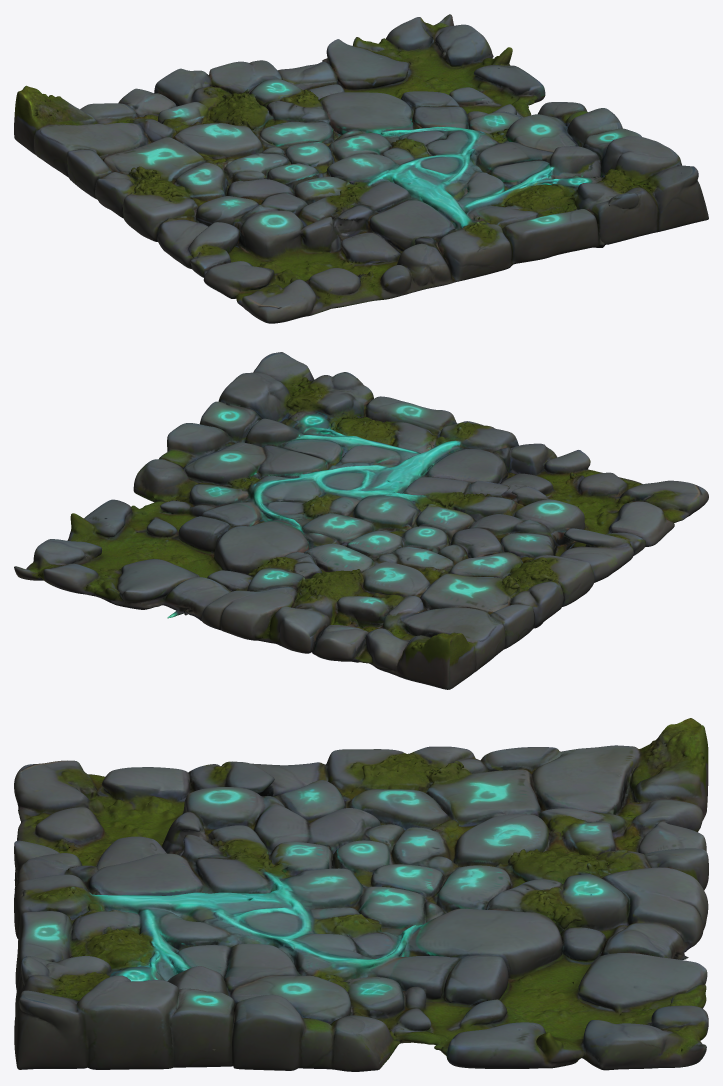
Rendered from Path.glb.
3 renders of one model, top to bottom at view 1: azimuth 30°, elevation 25°; view 2: azimuth 150°, elevation 25°; view 3: azimuth 270°, elevation 25°, orthographic. The views are drawn at different scales.
Bounding box in the file's own units: 2 × 0.227 × 2.
Materials: 1 (1 with a texture image).
